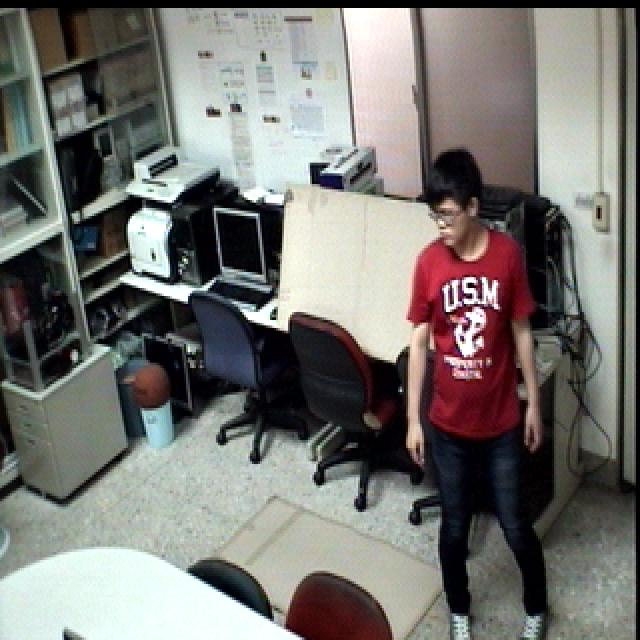stand: (404, 141, 555, 640)
